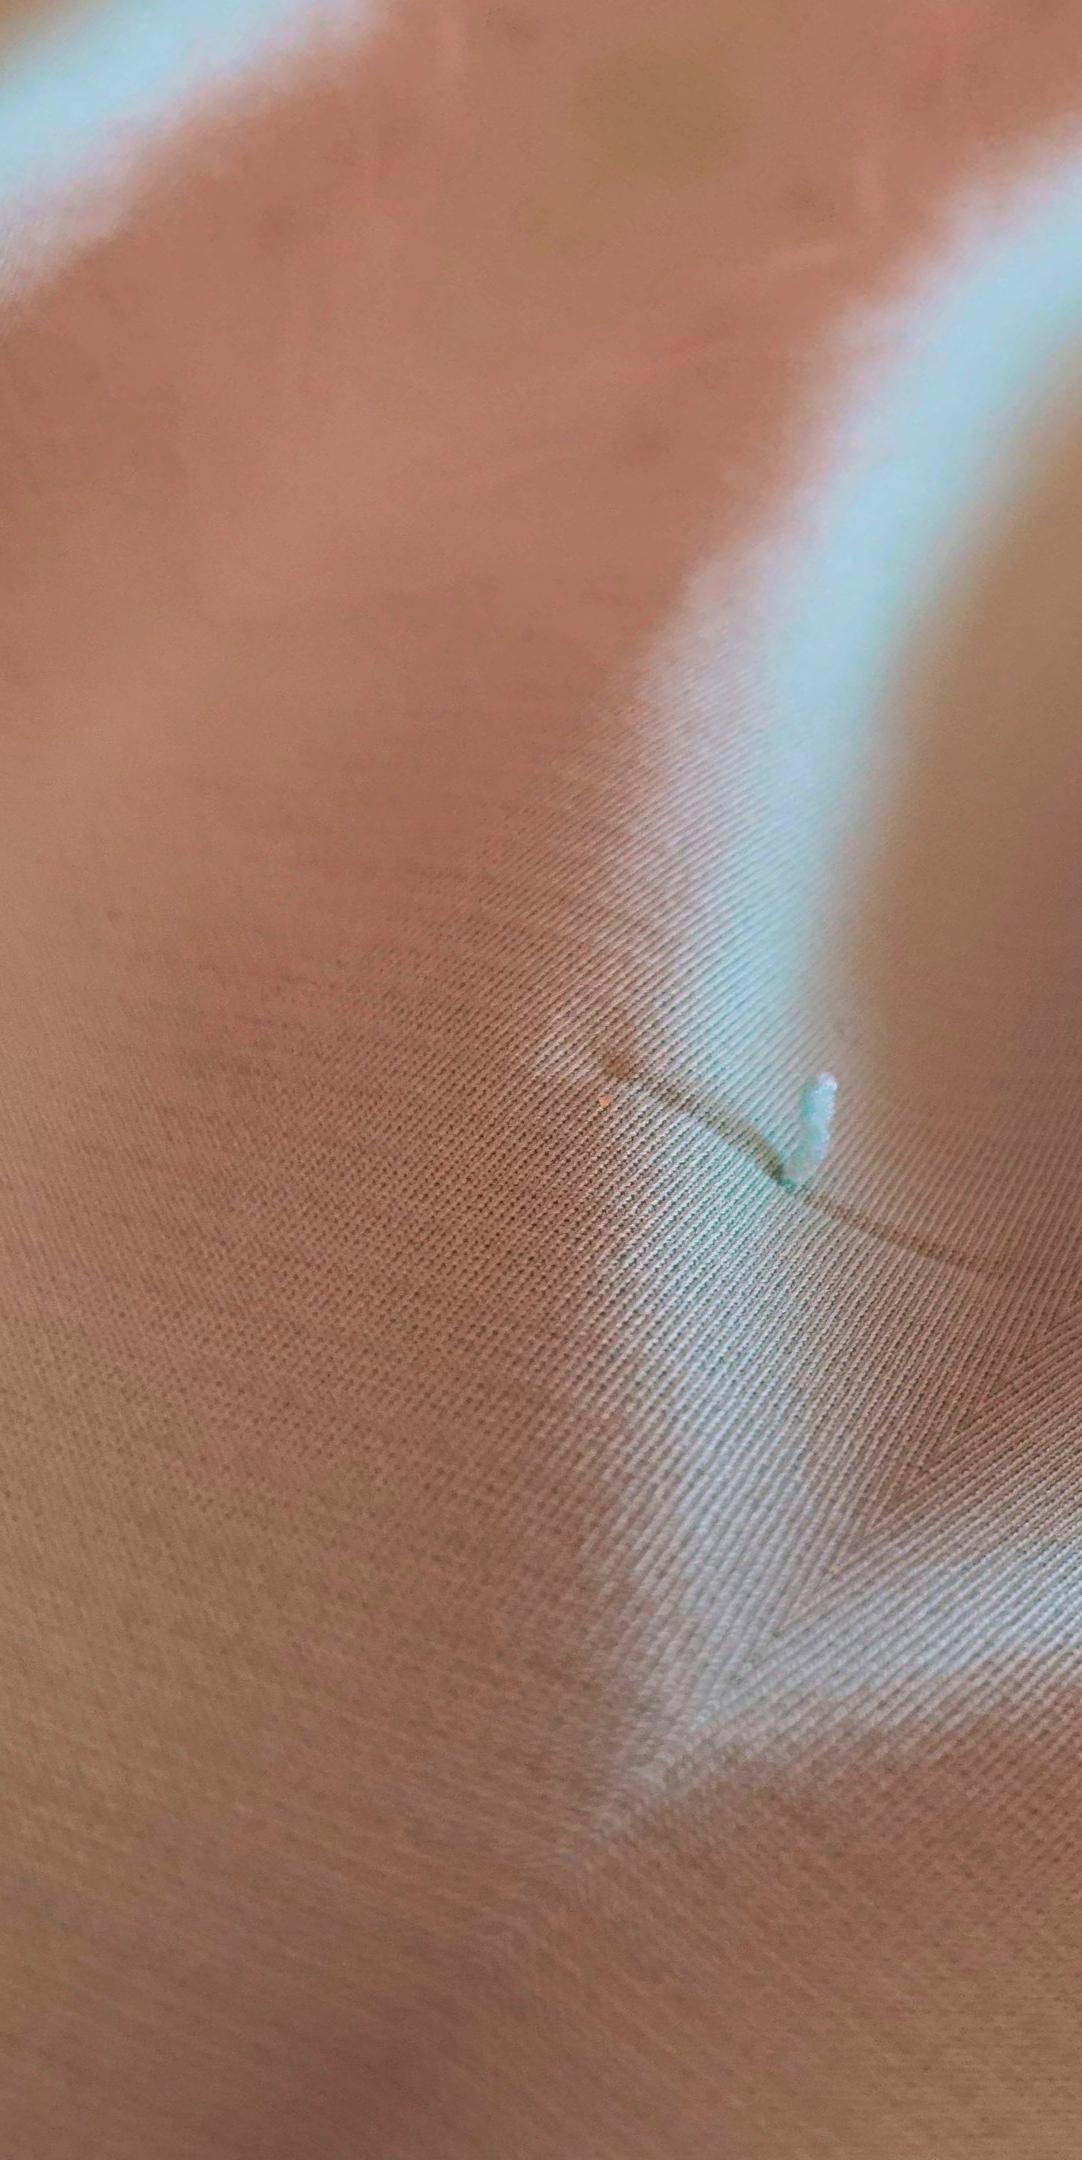snag: (708, 1000, 901, 1291)
